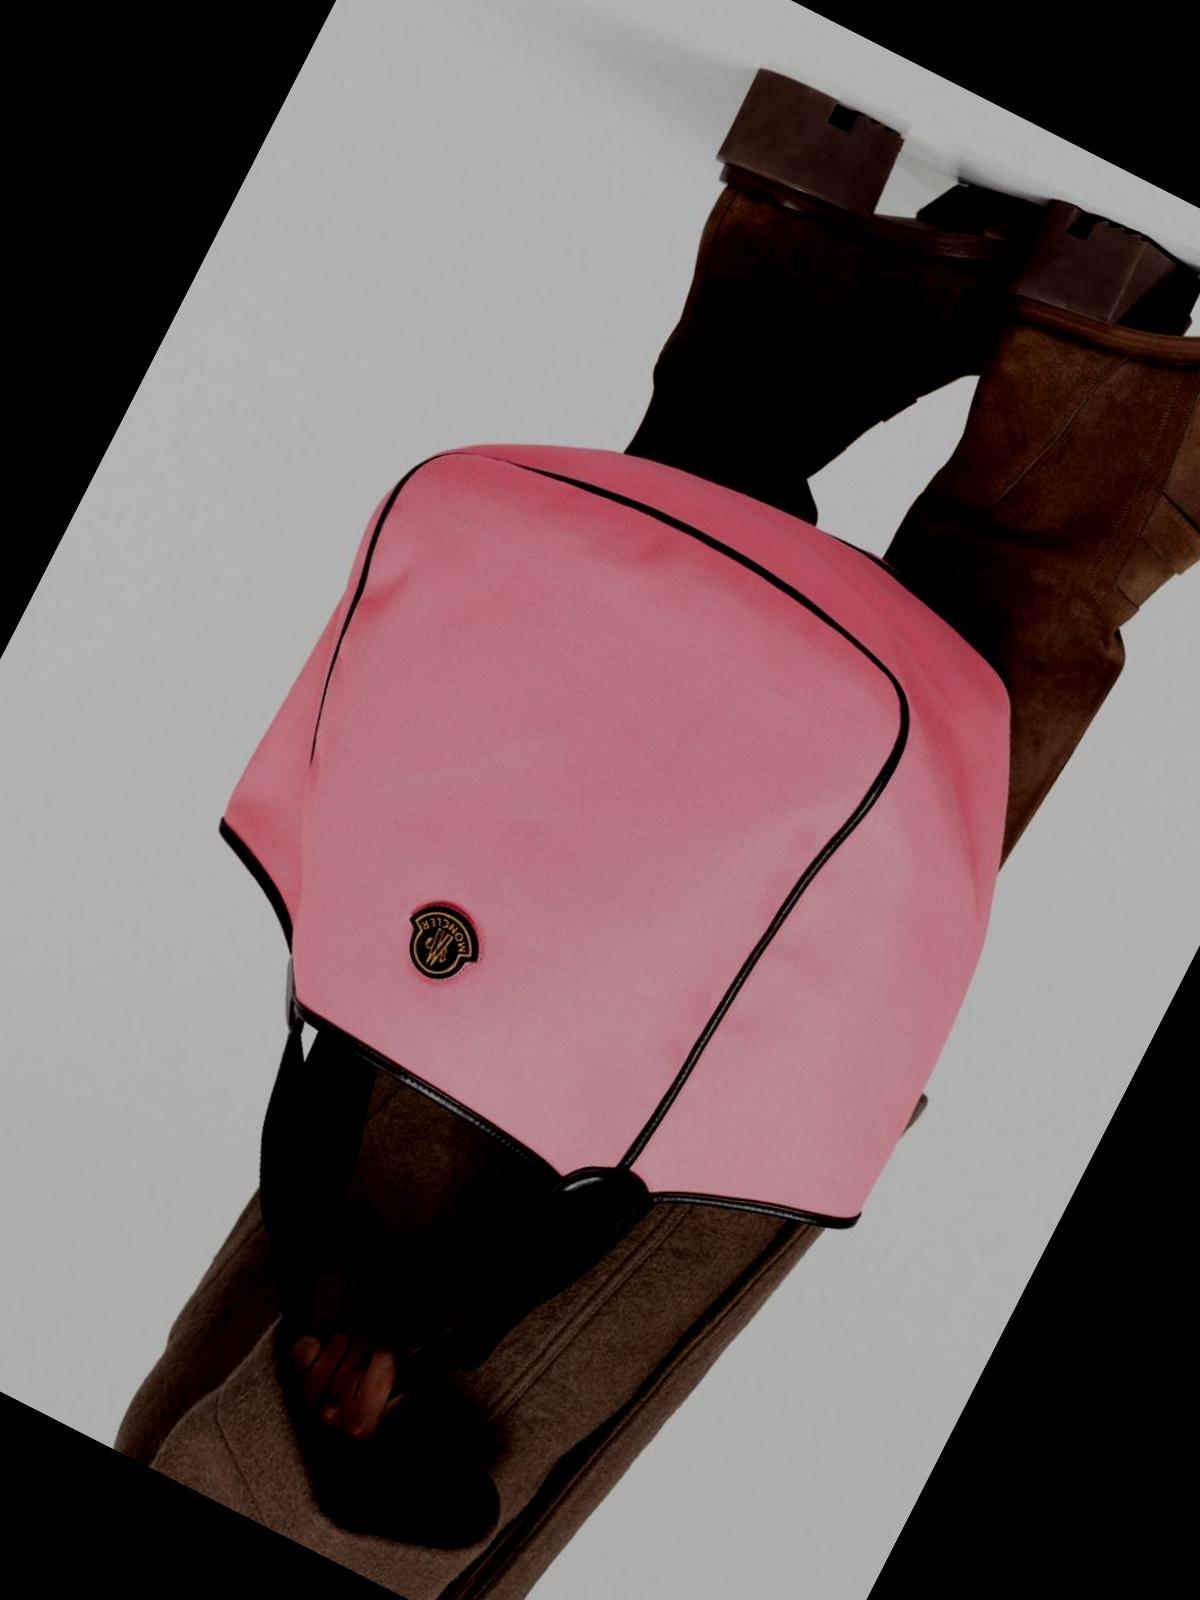MONCLER: (387, 892, 493, 994)
